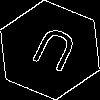U: (25, 25, 81, 82)
